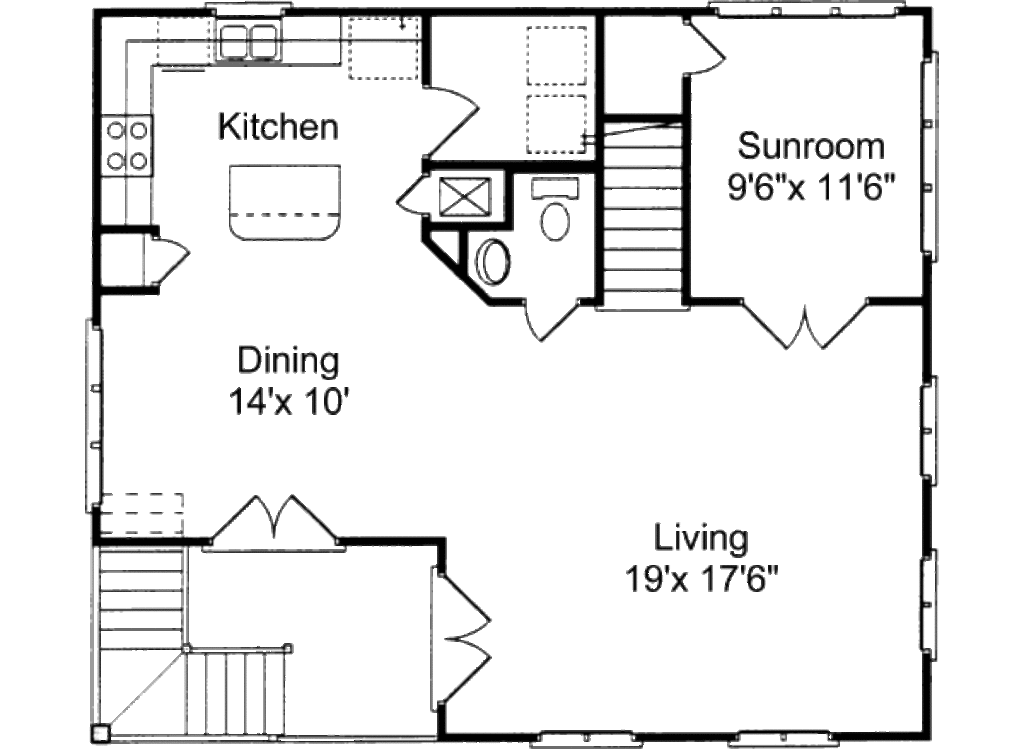coffee_table: (435, 173, 494, 220)
door: (427, 570, 488, 711), (207, 496, 343, 556), (742, 296, 869, 350), (424, 84, 480, 161), (684, 21, 735, 79), (516, 299, 581, 341), (150, 235, 187, 286), (388, 176, 429, 219)
large_sink: (527, 175, 581, 245)
small_sink: (470, 236, 513, 292)
stairs: (94, 542, 293, 742), (597, 117, 694, 316)
twin_sink: (212, 15, 285, 69)
windows: (917, 46, 943, 273), (912, 550, 947, 661), (83, 321, 102, 510), (916, 378, 941, 489), (525, 727, 642, 749), (722, 727, 833, 745)
